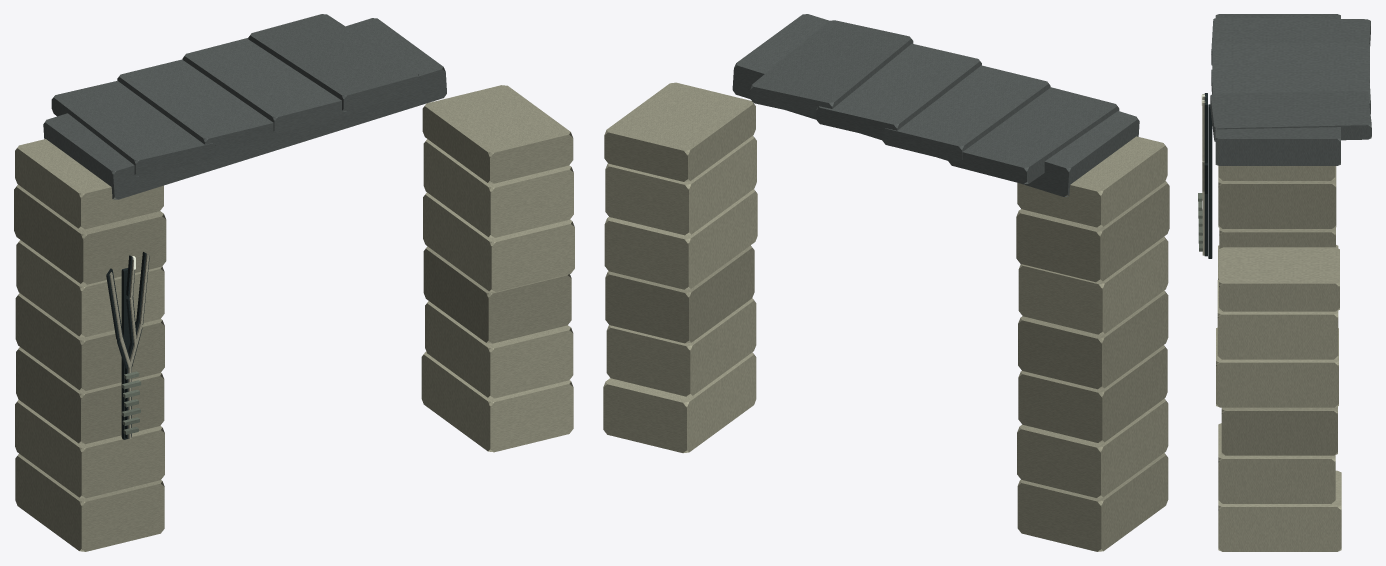
The model's file is cataclysm_upland_shelter.glb.
The picture shows the model from 3 angles, left to right: view 1: azimuth 30°, elevation 25°; view 2: azimuth 150°, elevation 25°; view 3: azimuth 270°, elevation 25°; orthographic projection. The views are drawn at different scales.
Visible parts, largest first — view 1: cataclysm_upland_shelter; view 2: cataclysm_upland_shelter; view 3: cataclysm_upland_shelter.
Part boxes in pixels (x1,y1,x2,y2): cataclysm_upland_shelter: (14,14,574,551); cataclysm_upland_shelter: (603,14,1169,551); cataclysm_upland_shelter: (1198,14,1371,551).
Bounding box in the file's own units: 3.17 × 2.44 × 1.08.
Materials: 3 (3 with a texture image).
